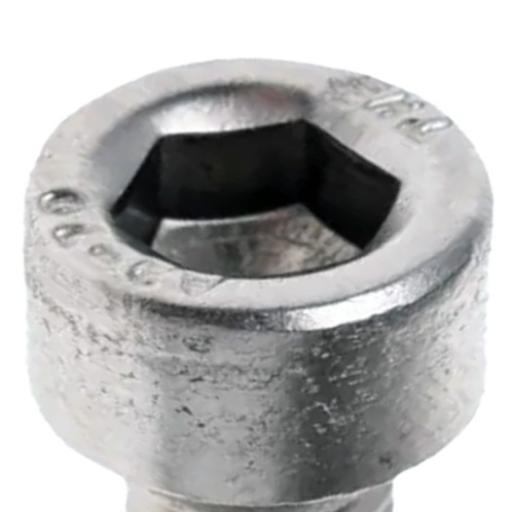Hex-Allen: (5, 51, 505, 512)
